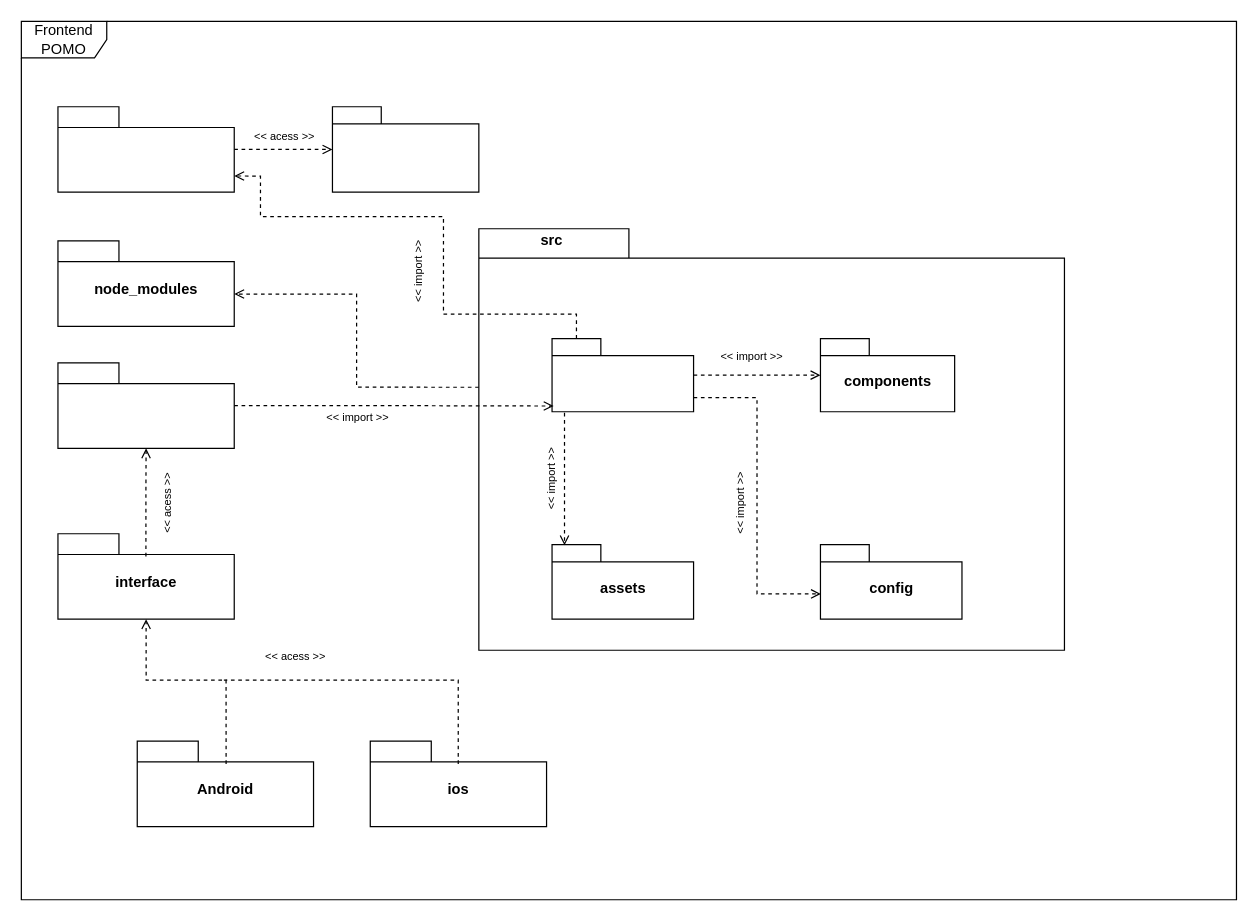
Some shapes in this 1258 by 921 pixel diagram are drawn without their labels. Here are the shapes that lost their labels. From the top down, the centre of each, then its label:
At (145,149): "services".
At (405,149): "api/endpoints (backend)".
At (622,374): "pages".
At (145,405): "routes".
